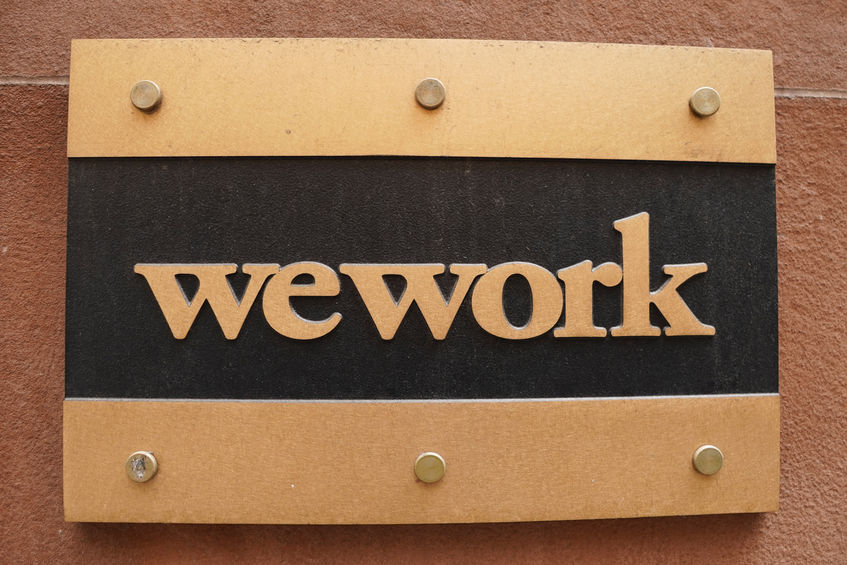wework: (125, 206, 722, 347)
